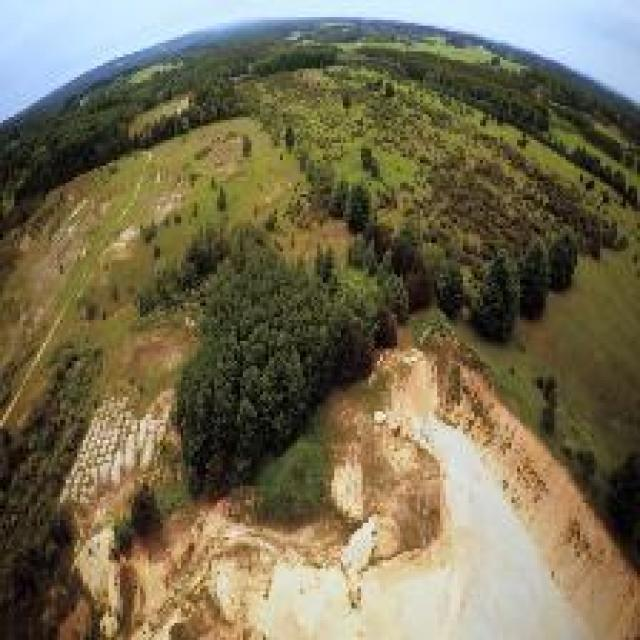other: (188, 397, 624, 626)
